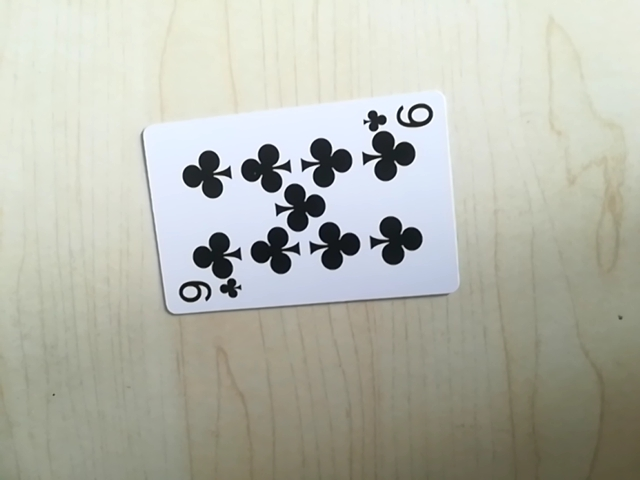mh 9: (363, 97, 440, 133), (173, 276, 242, 310)
